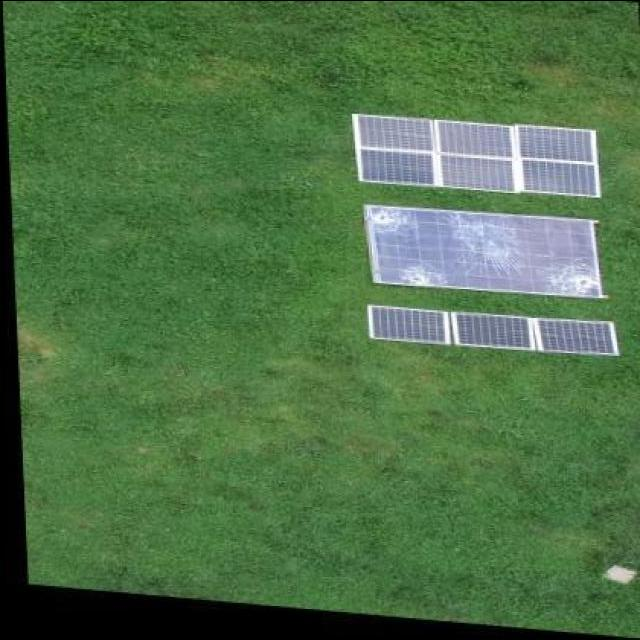cracked: (356, 207, 604, 291)
